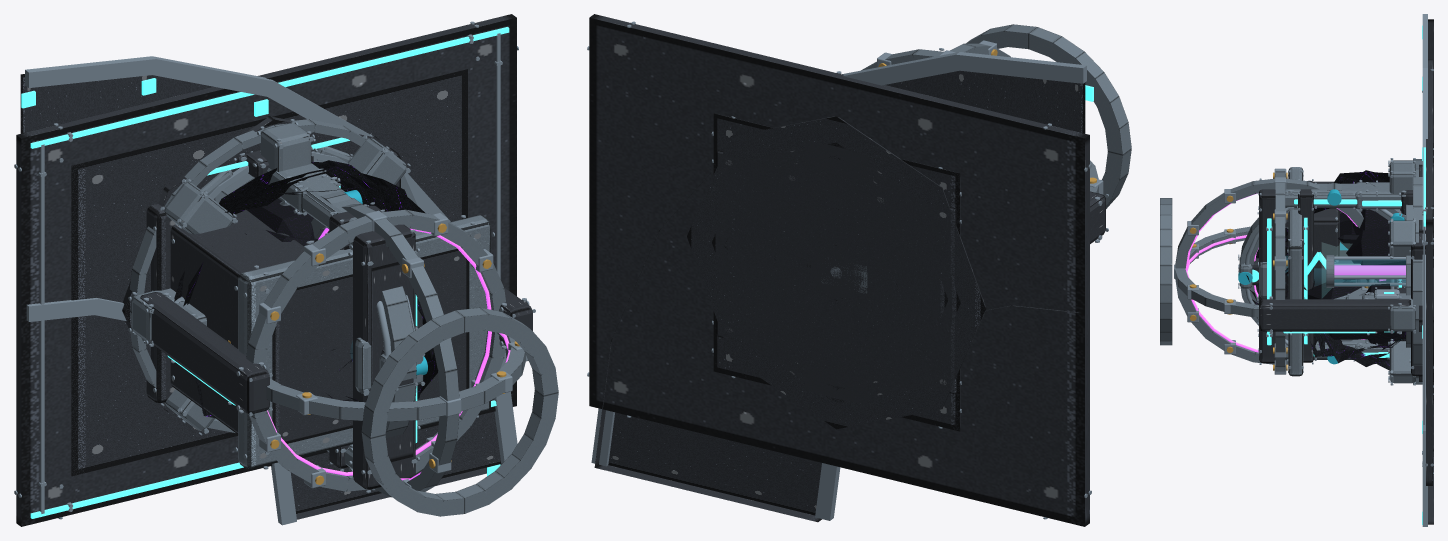
Rendered from world-high.glb.
3 views of the same model, side by side, from view 1: azimuth 30°, elevation 25°; view 2: azimuth 150°, elevation 25°; view 3: azimuth 270°, elevation 25° (orthographic). The views are drawn at different scales.
Visible parts, largest first — view 1: track-straight-root / Quiet graphite road, track-straight-root / Ceramic graphite, pit-station-root / Ceramic graphite, reactor-root / Brushed pale alloy, track-bend-root / Titanium edges, track-bend-root / Quiet graphite road, reactor-root / Ceramic graphite, Gimbal bearing.002 / Brushed pale alloy, pit-station-root / Brushed pale alloy, gantry-root / Ceramic graphite, Gimbal bearing / Brushed pale alloy, track-straight-root / Cyan instrumentation (+17 smaller); view 2: track-straight-root / Quiet graphite road, deposit-root / Ceramic graphite, gate-marker-root / Ceramic graphite, reactor-root / Ceramic graphite, track-bend-root / Quiet graphite road, pit-station-root / Ceramic graphite, track-bend-root / Titanium edges, reactor-root / Brushed pale alloy, floor-tile-root / Quiet graphite road, finish-arch-root / Ceramic graphite, gantry-root / Ceramic graphite, beacon-root / Ceramic graphite (+3 smaller); view 3: reactor-root / Brushed pale alloy, reactor-root / Ceramic graphite, deposit-root / Violet crystal, Gimbal bearing / Brushed pale alloy, track-straight-root / Quiet graphite road, pit-station-root / Brushed pale alloy, track-bend-root / Titanium edges, Gimbal bearing.001 / Brushed pale alloy, pit-station-root / Field glass, gantry-root / Ceramic graphite, Gimbal bearing.002 / Brushed pale alloy, gantry-root / Brushed pale alloy (+23 smaller).
Boxes of the visible parts, x1,y1,x2,y2 form: track-straight-root / Quiet graphite road: (16,14,516,526); track-straight-root / Ceramic graphite: (71,69,467,476); pit-station-root / Ceramic graphite: (146,148,469,443); reactor-root / Brushed pale alloy: (129,119,558,516); track-bend-root / Titanium edges: (25,56,517,525); track-bend-root / Quiet graphite road: (20,74,501,519); reactor-root / Ceramic graphite: (122,116,532,418); Gimbal bearing.002 / Brushed pale alloy: (246,209,505,491); pit-station-root / Brushed pale alloy: (238,215,490,468); gantry-root / Ceramic graphite: (237,154,415,489); Gimbal bearing / Brushed pale alloy: (311,204,459,497); track-straight-root / Cyan instrumentation: (30,27,509,518); track-straight-root / Quiet graphite road: (589,14,1089,526); deposit-root / Ceramic graphite: (724,156,947,389); gate-marker-root / Ceramic graphite: (712,142,960,402); reactor-root / Ceramic graphite: (687,116,1105,429); track-bend-root / Quiet graphite road: (594,70,1085,522); pit-station-root / Ceramic graphite: (716,150,956,393); track-bend-root / Titanium edges: (591,52,1086,520); reactor-root / Brushed pale alloy: (966,24,1131,208); floor-tile-root / Quiet graphite road: (713,113,960,431); finish-arch-root / Ceramic graphite: (807,141,865,403); gantry-root / Ceramic graphite: (805,140,867,404); beacon-root / Ceramic graphite: (809,245,862,300); reactor-root / Brushed pale alloy: (1160,159,1422,384); reactor-root / Ceramic graphite: (1259,161,1433,381); deposit-root / Violet crystal: (1307,209,1405,339); Gimbal bearing / Brushed pale alloy: (1175,178,1363,364); track-straight-root / Quiet graphite road: (1426,59,1432,485); pit-station-root / Brushed pale alloy: (1288,167,1334,376); track-bend-root / Titanium edges: (1422,14,1427,526); Gimbal bearing.001 / Brushed pale alloy: (1175,226,1367,317); pit-station-root / Field glass: (1334,259,1405,285); gantry-root / Ceramic graphite: (1259,189,1275,363); Gimbal bearing.002 / Brushed pale alloy: (1275,171,1285,371); gantry-root / Brushed pale alloy: (1285,182,1401,361).
Bounding box in the file's own units: 4 × 4 × 2.8.
Materials: 12 (5 with a texture image).
